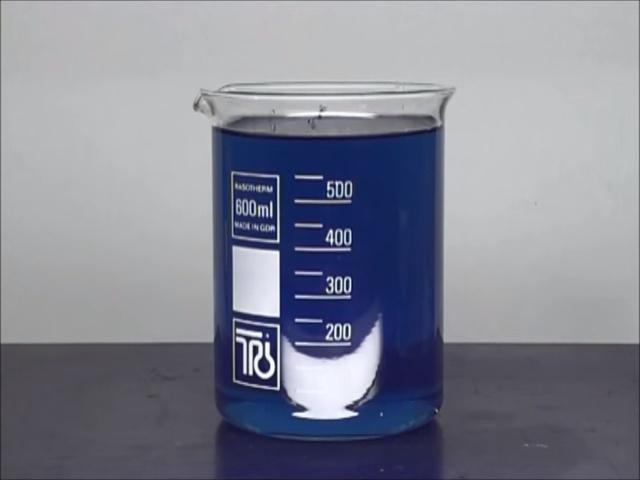Beaker: (185, 75, 460, 442)
